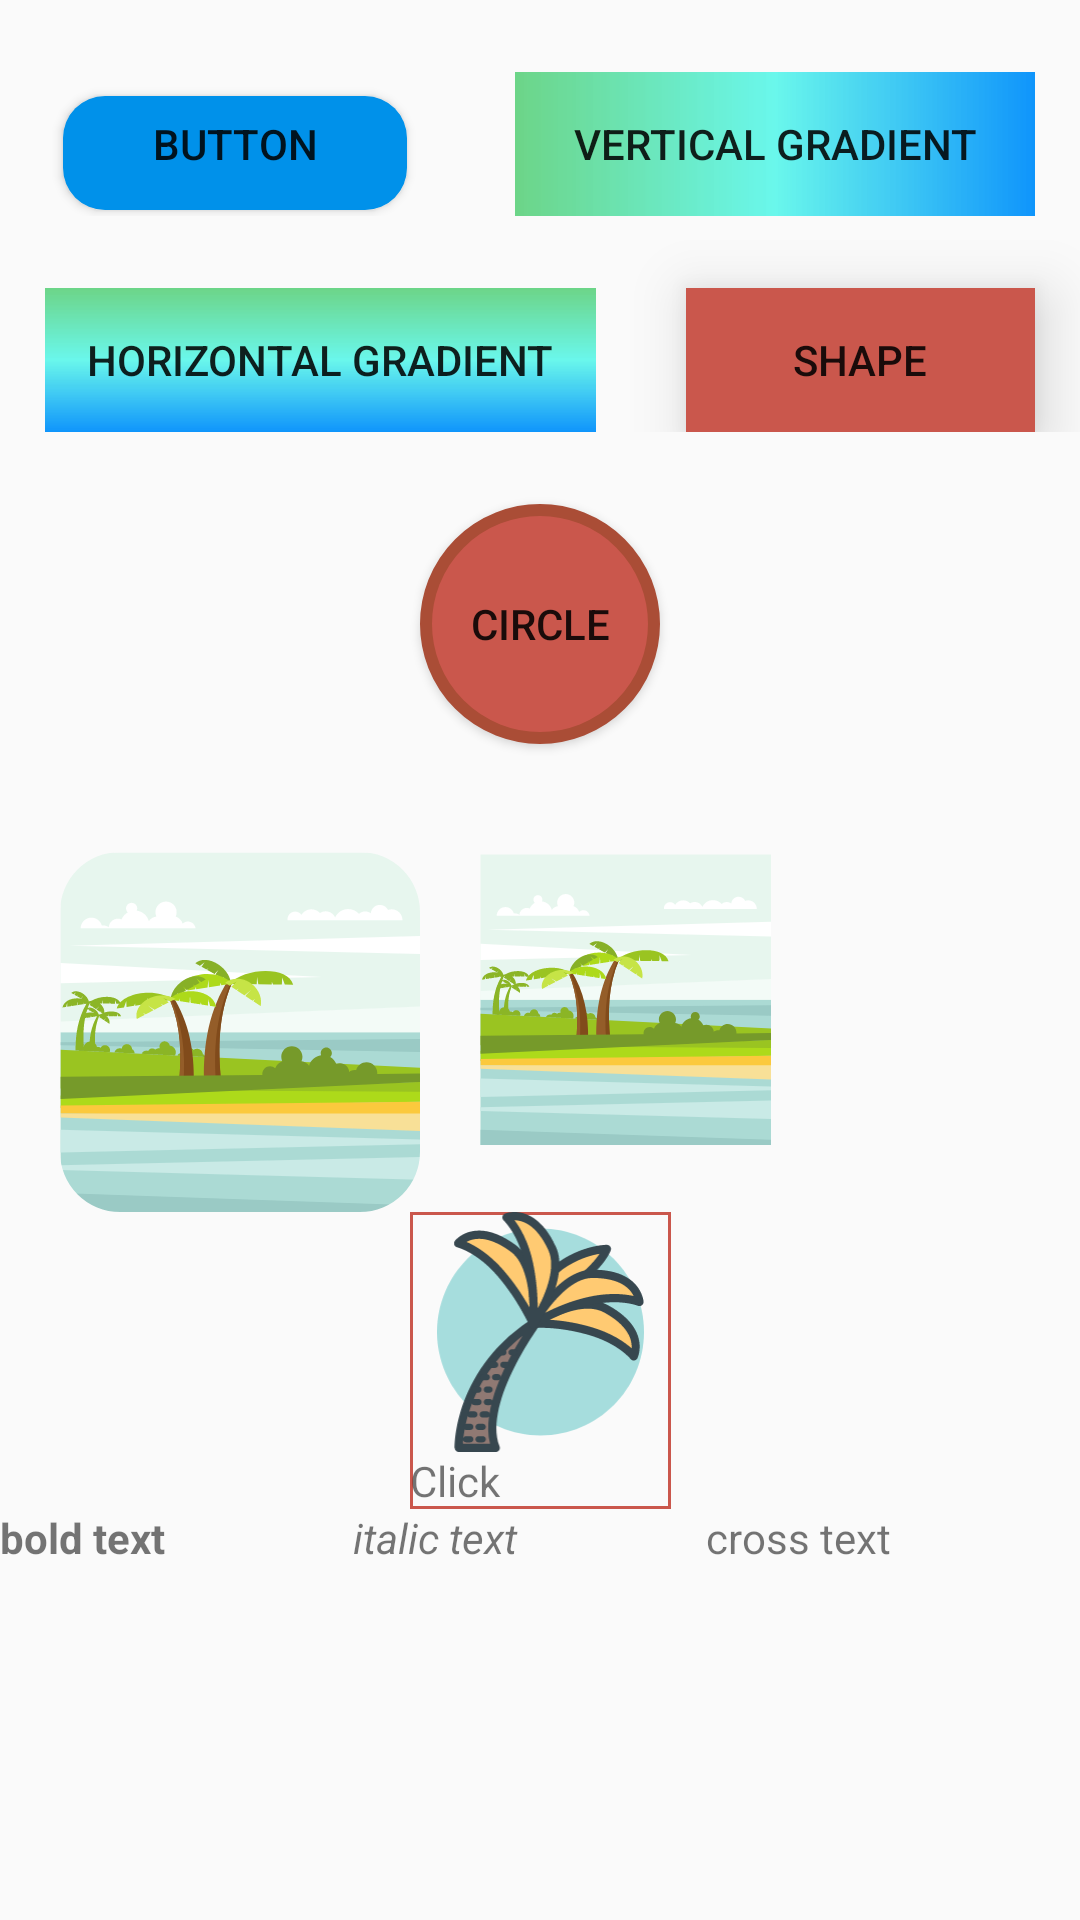

Icons on this 1080 × 1920 Android screen, each with its box as (x1, y1, x2, y2):
673361157green tropical island: (480, 941, 771, 1145), (60, 960, 420, 1212)
palm tree holidays: (410, 1212, 671, 1452)
